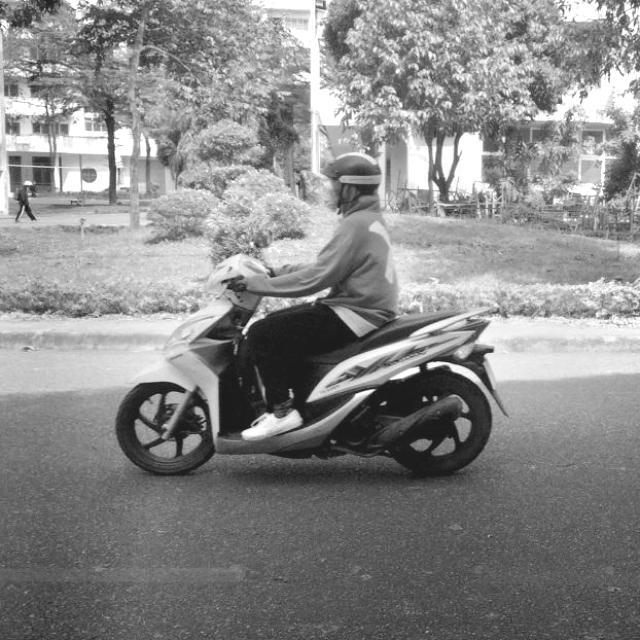Helmet: (314, 147, 386, 213)
